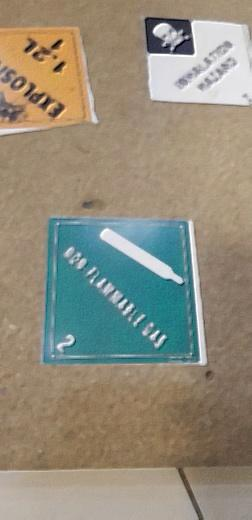explosive: (1, 25, 99, 125)
non-flammable-gas: (42, 214, 209, 367)
poison: (140, 13, 251, 108)
